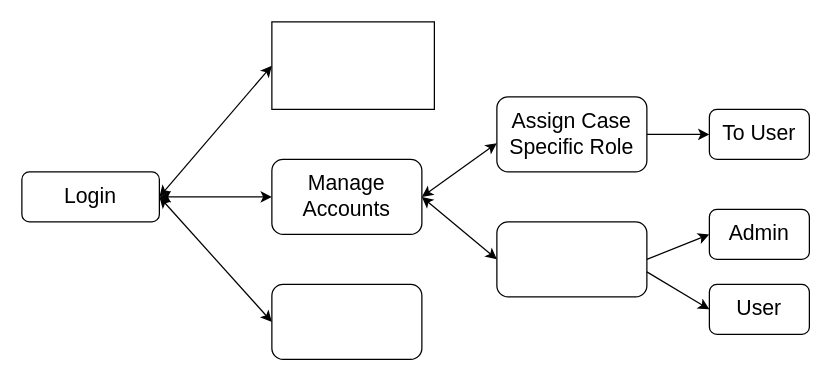
This 831x381 diagram has some shape labels left out. The box of each missing label's shape, as (x1, y1, x2, y2) in pixels:
Case Manager Role: (271, 21, 434, 109)
Create Case: (271, 283, 422, 359)
Create New Account: (496, 221, 647, 297)
